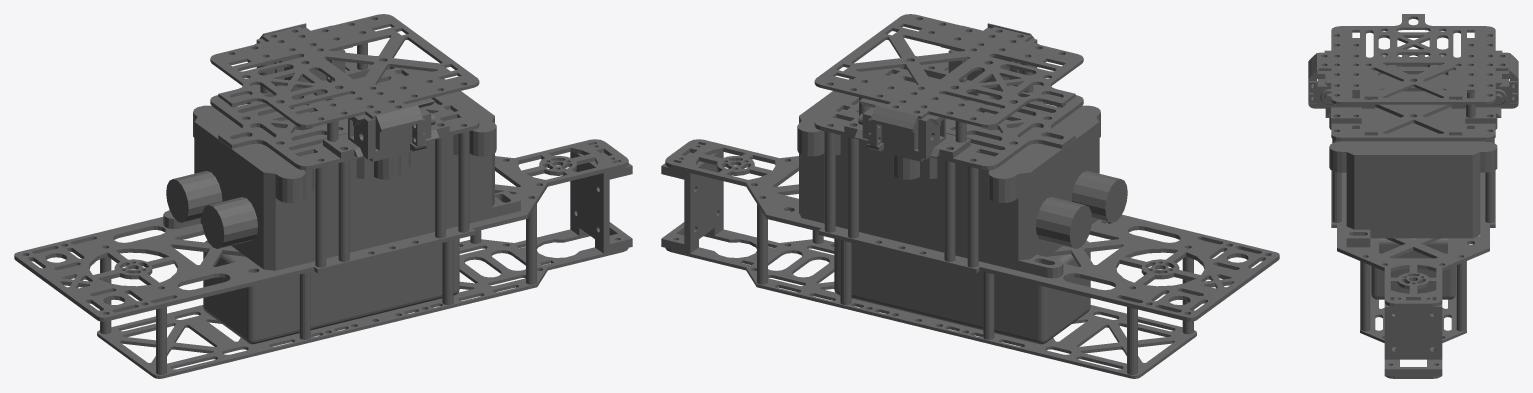
File: body_main_colored.dae
3 views of the same model, side by side, from view 1: azimuth 30°, elevation 25°; view 2: azimuth 150°, elevation 25°; view 3: azimuth 270°, elevation 25° (orthographic). The views are drawn at different scales.
Visible parts, largest first — view 1: body_main; view 2: body_main; view 3: body_main.
Boxes of the visible parts, bbox=[...] form: body_main: bbox=[14, 14, 632, 378]; body_main: bbox=[661, 14, 1279, 378]; body_main: bbox=[1308, 14, 1518, 378].
Size of the model in its own units: 0.29 by 0.11 by 0.1165.
1 material, 1 textured.
